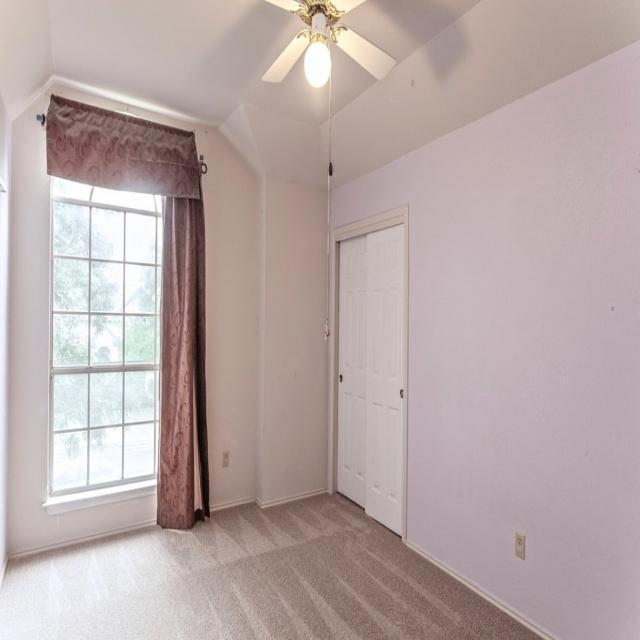fan_off: (242, 0, 405, 87)
